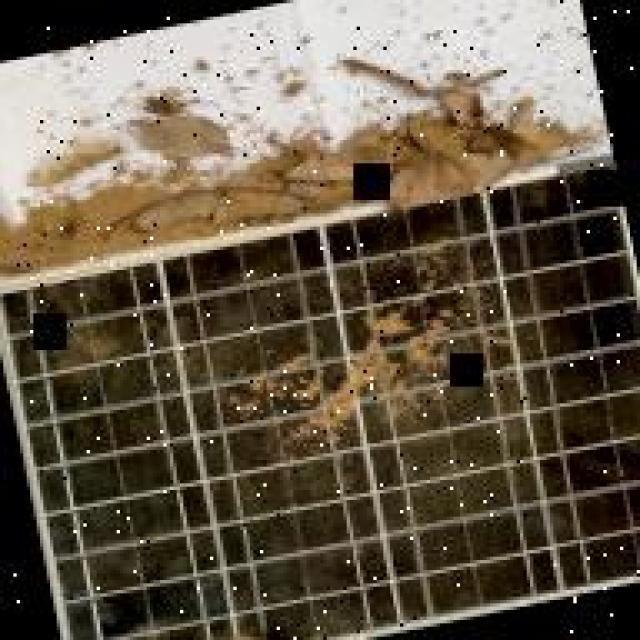dust-solar-panel: (0, 176, 640, 640)
